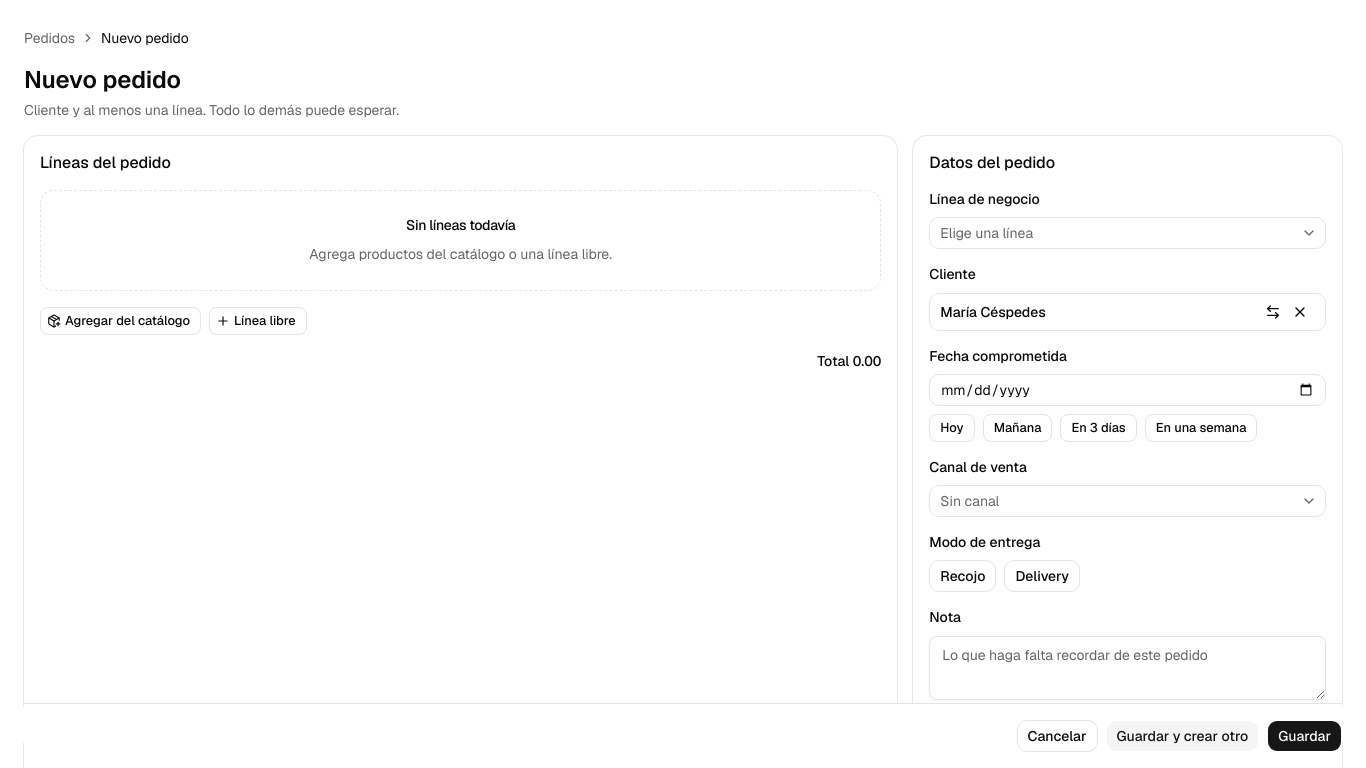
Test: OrderForm · líneas desde el diálogo de catálogo › cambiar la línea de negocio quita las líneas agregadas que no le pertenecen
The image size is (1366, 768).
Click the button "Agregar del catálogo". click: x=120, y=321
box: 40,307 -> 201,335
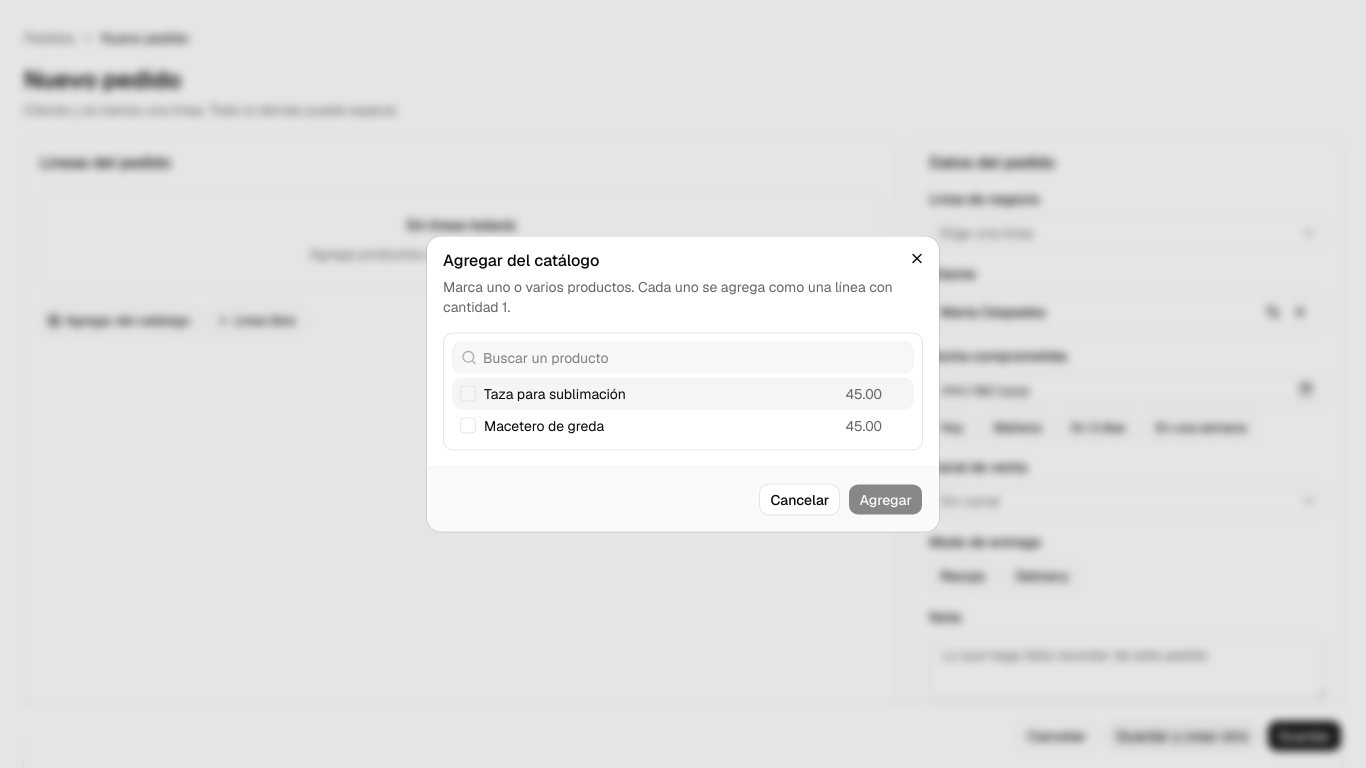
Click the option "Taza para sublimación 45.00". click: x=555, y=394
box: 452,378 -> 914,410
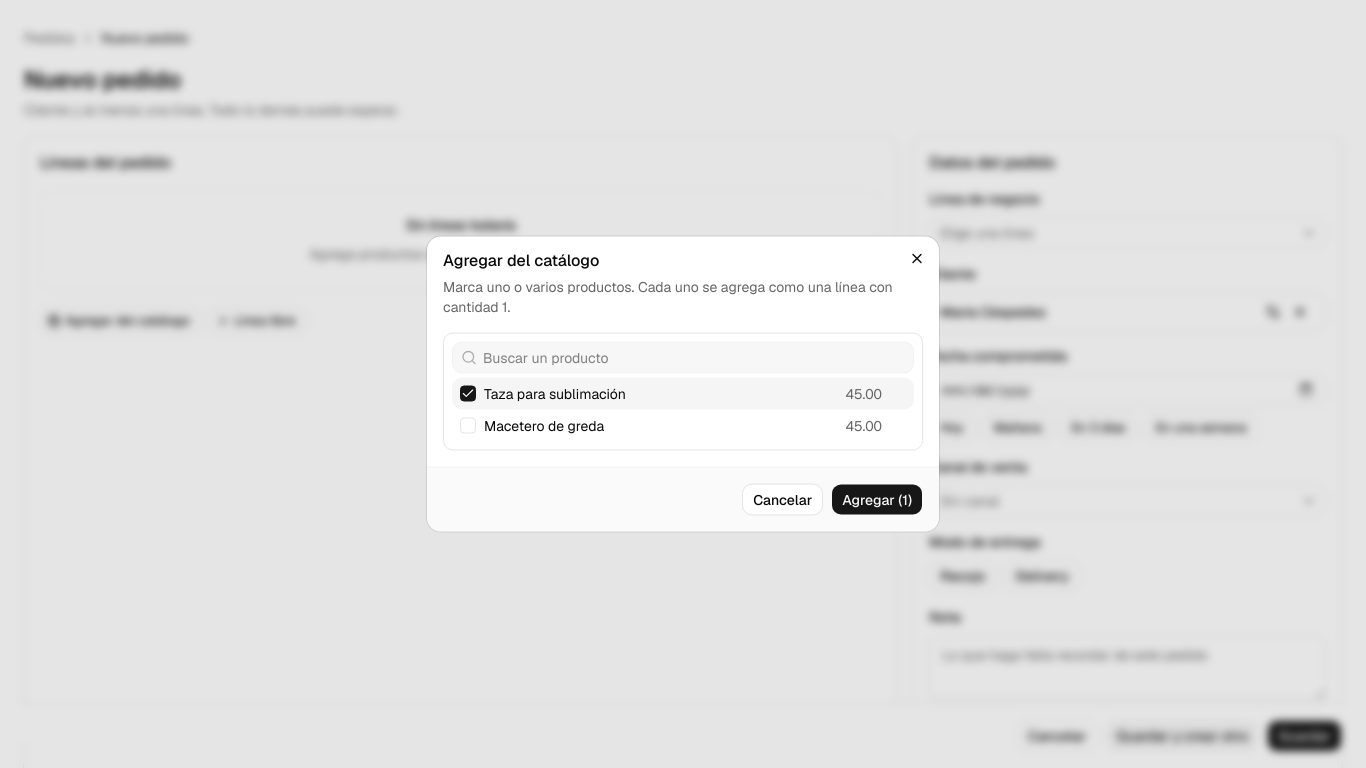
Click the option "Macetero de greda 45.00". click: x=544, y=426
box: 460,416 -> 882,434
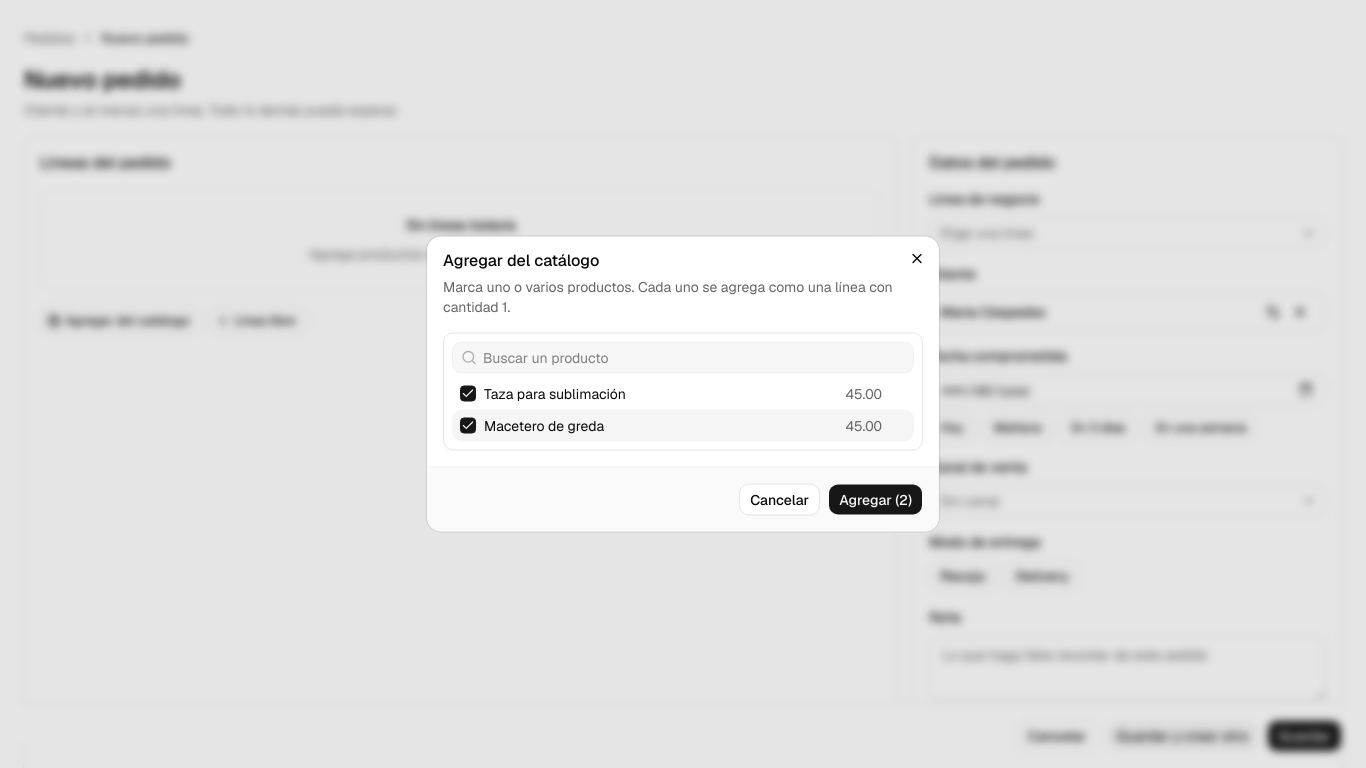
Click the button "Agregar (2)". click: x=876, y=500
box: 828,484 -> 923,516
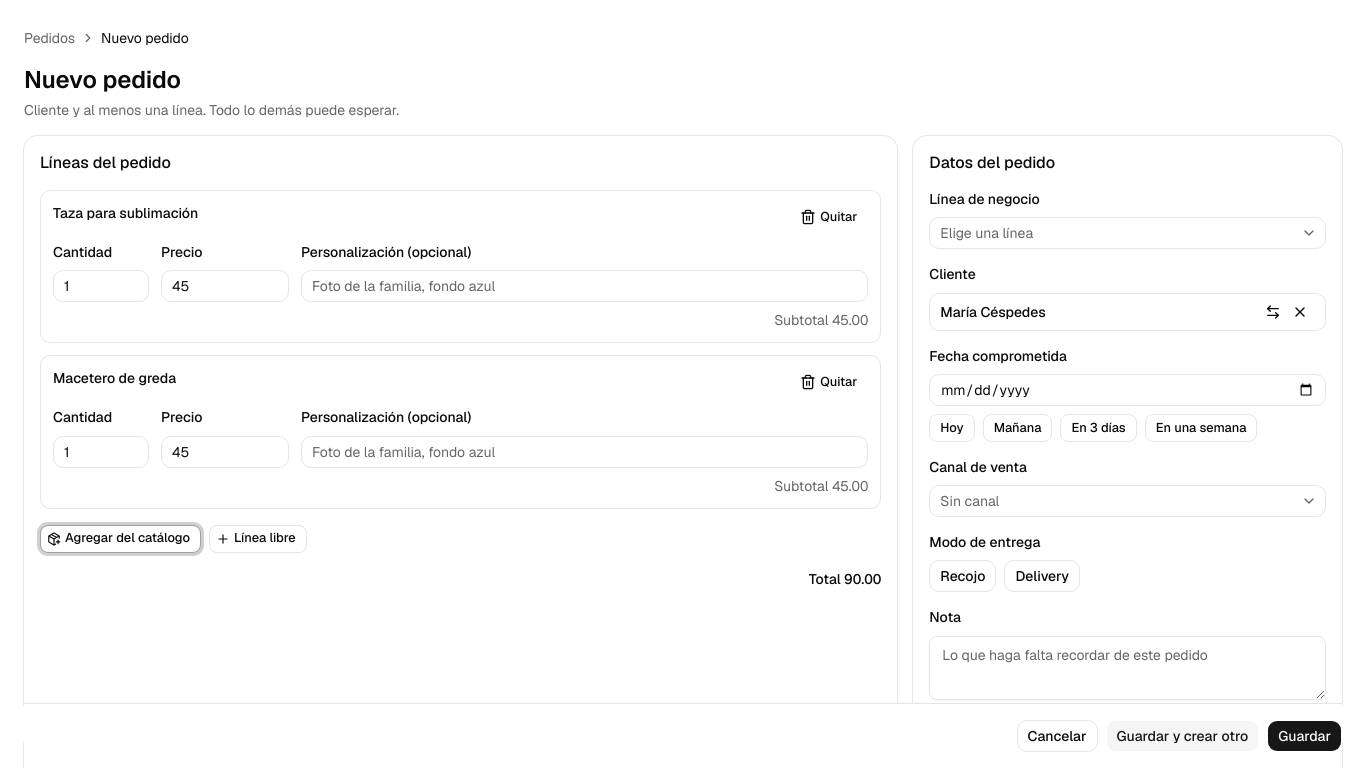
Expected: the dialog is gone
Expected: the number of list items with test id "order-line-row" is 2, 40,190 -> 881,343; 40,355 -> 881,509
Click the dropdown with test id "line-select". click: x=987, y=233
box: 929,217 -> 1326,249
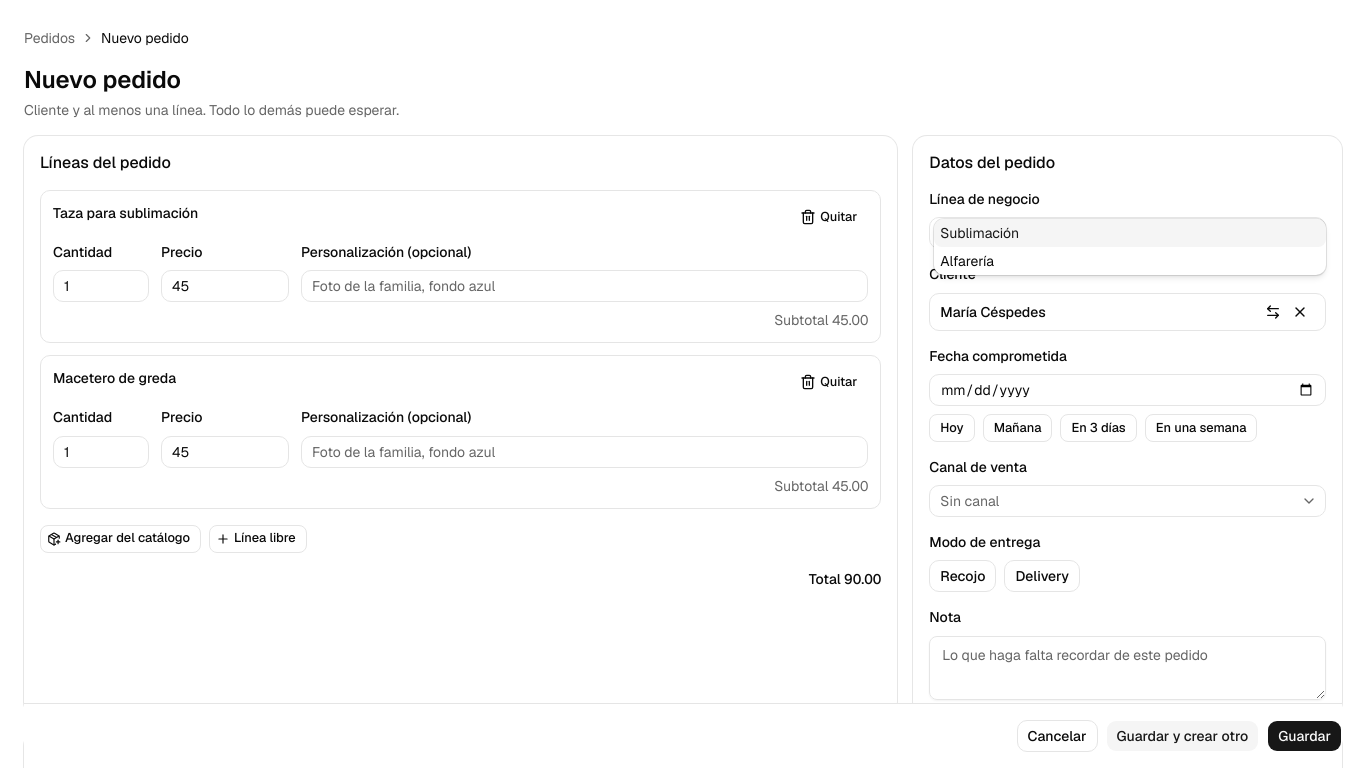
Click the option "Alfarería". click: x=967, y=261
box: 940,252 -> 994,270
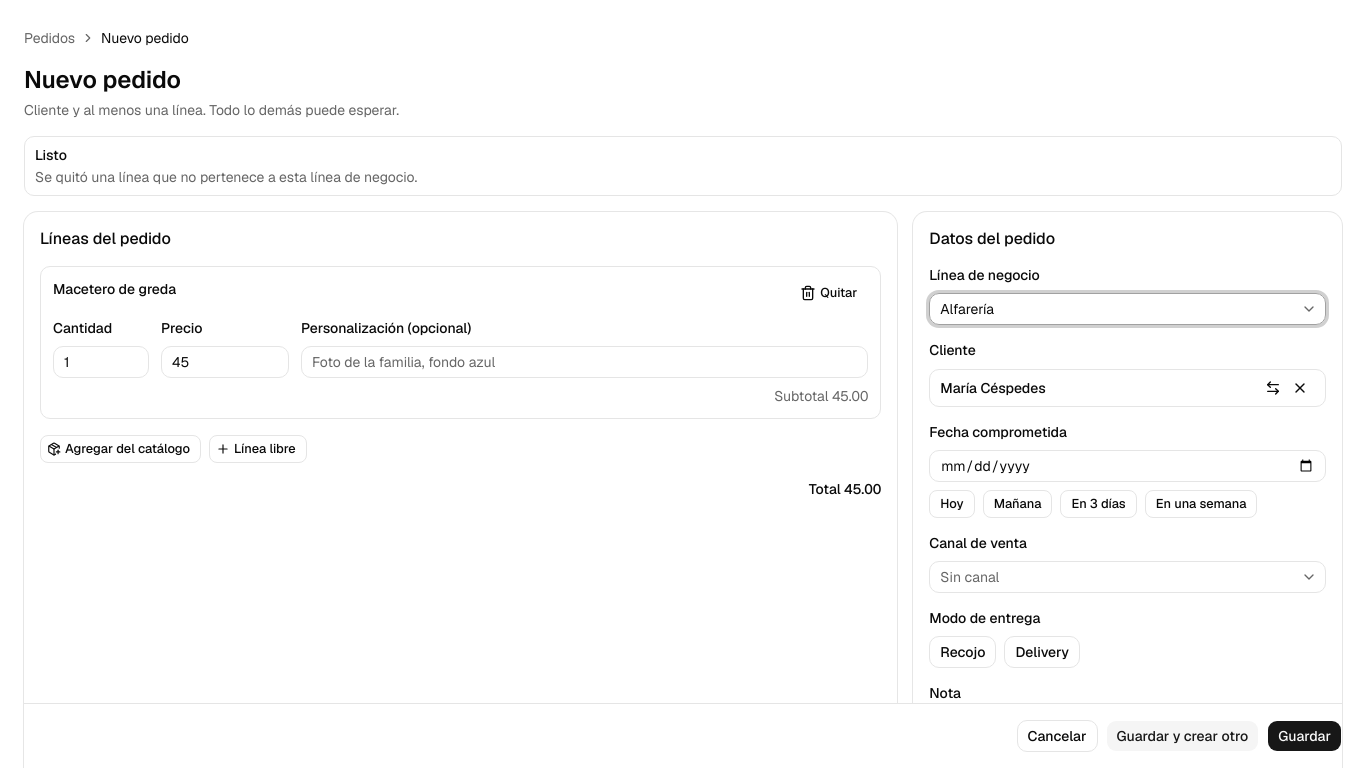
Expected: the number of list items with test id "order-line-row" is 1, 40,266 -> 881,419
Expected: the message with test id "order-form-notice" shows "Se quitó una línea", 35,168 -> 417,186
